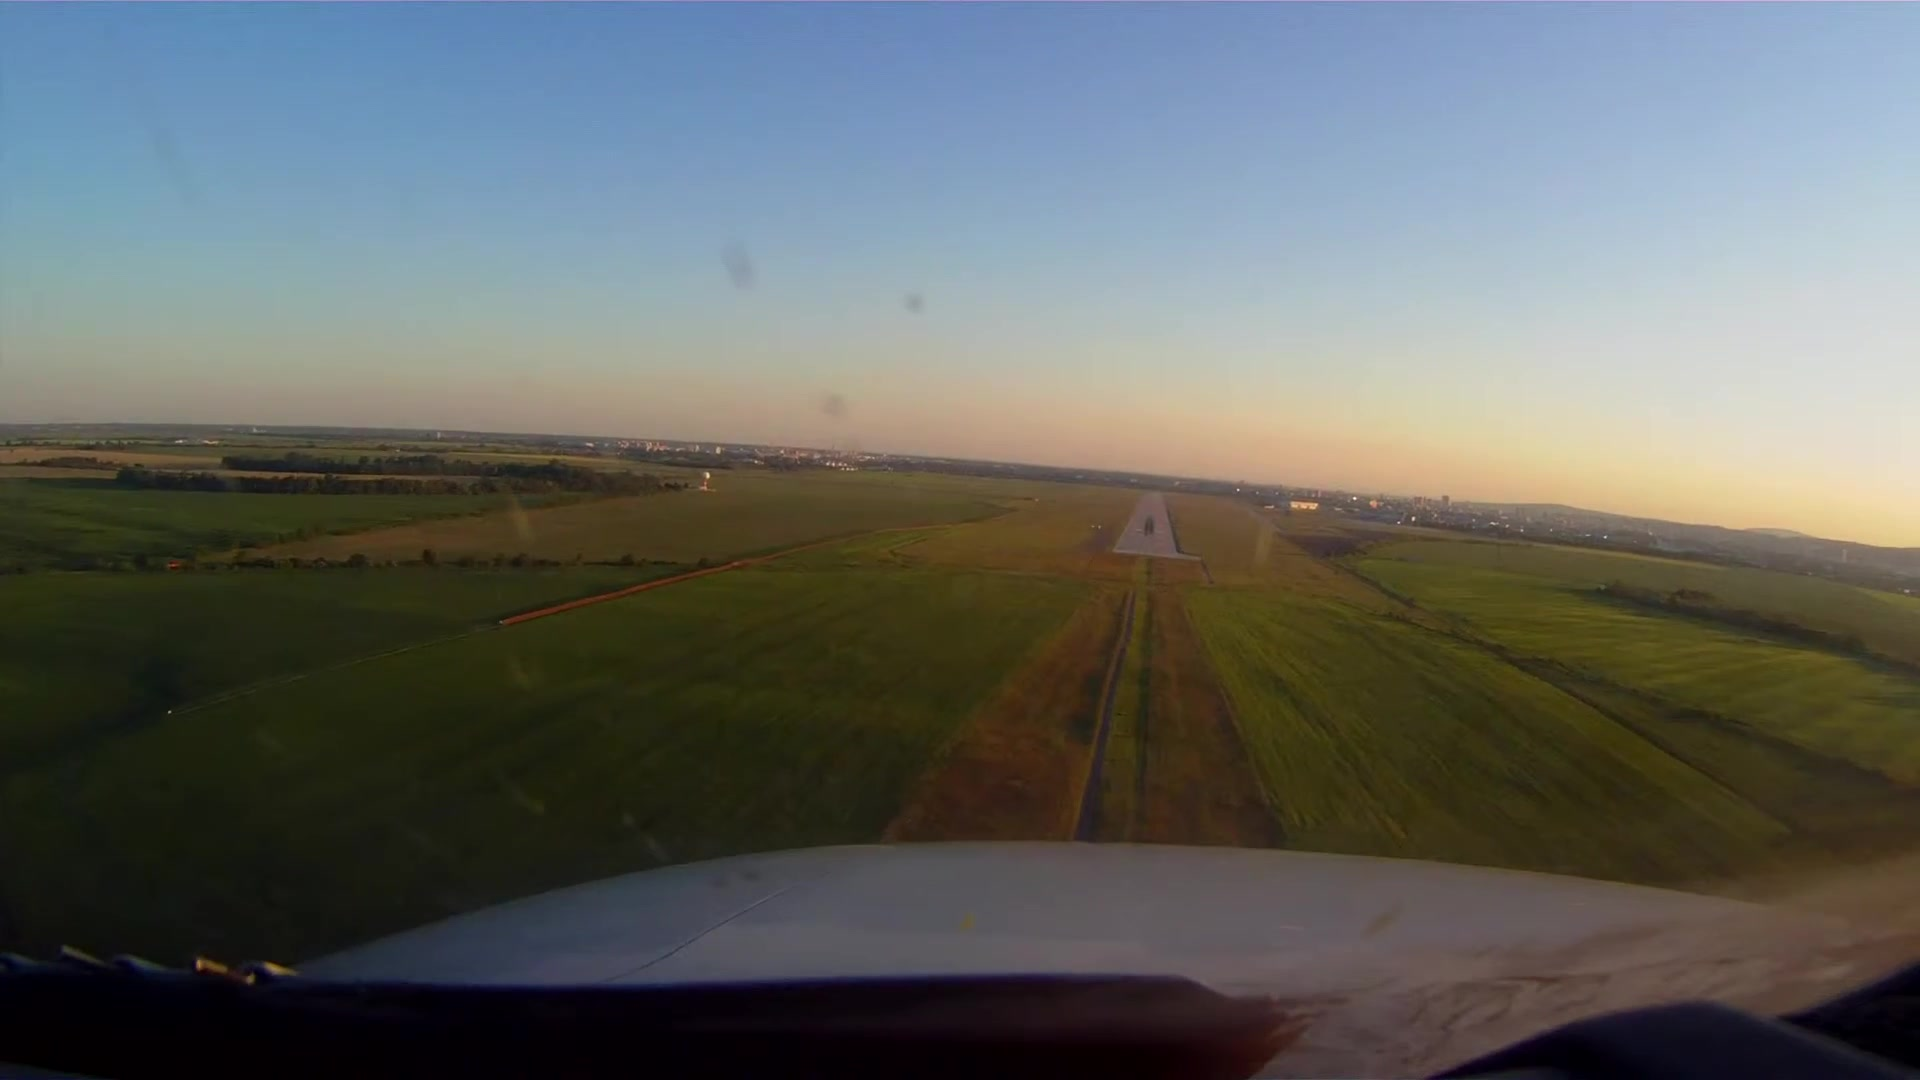runway: (1106, 488, 1185, 560)
